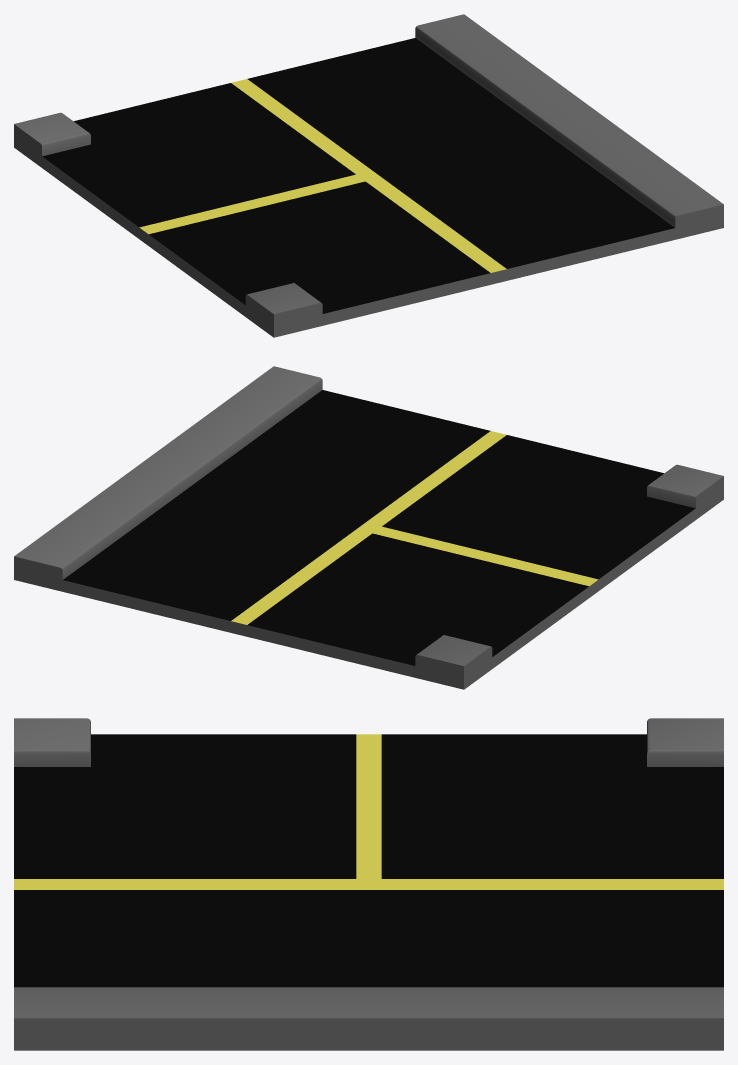
The model's file is Tetris5.fbx.
3 views of the same model, one above another, from view 1: azimuth 30°, elevation 25°; view 2: azimuth 150°, elevation 25°; view 3: azimuth 270°, elevation 25° (orthographic). The views are drawn at different scales.
Visible parts, largest first — view 1: Tetris3; view 2: Tetris3; view 3: Tetris3.
Part boxes in pixels (bbox=[...]): Tetris3: bbox=[14, 14, 723, 337]; Tetris3: bbox=[14, 366, 723, 689]; Tetris3: bbox=[14, 718, 723, 1050].
Bounding box in the file's own units: 200 × 10 × 200.
